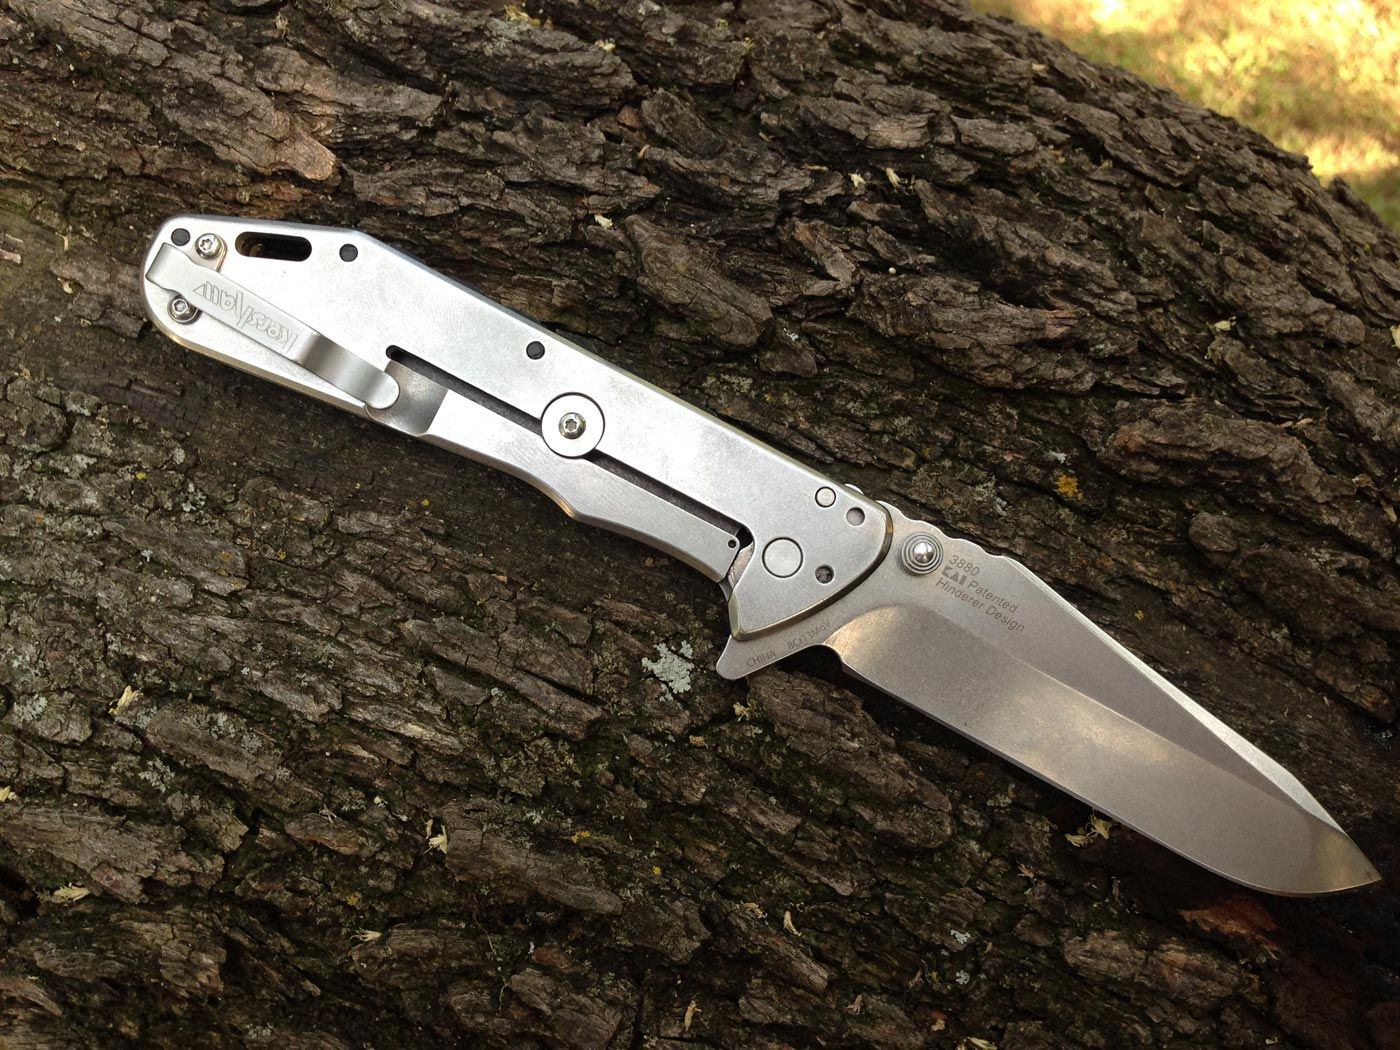knife: (121, 196, 1387, 902)
